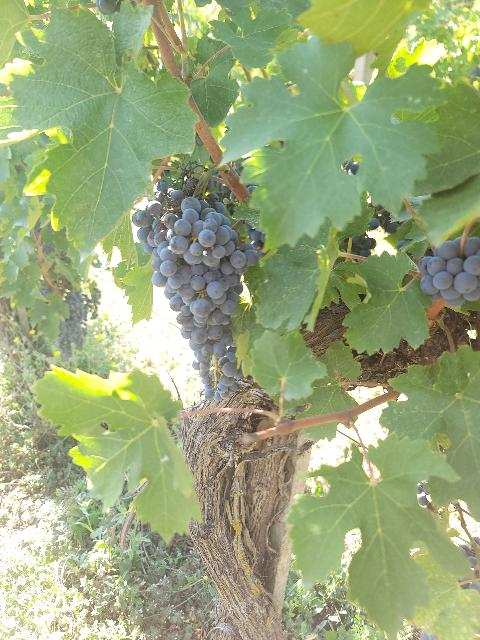grapes: (131, 180, 259, 324), (419, 235, 480, 308)
